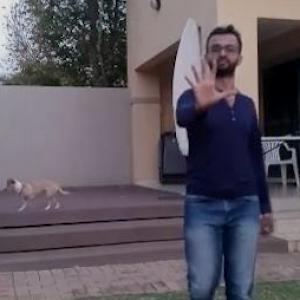follow_hand: (178, 53, 238, 111)
